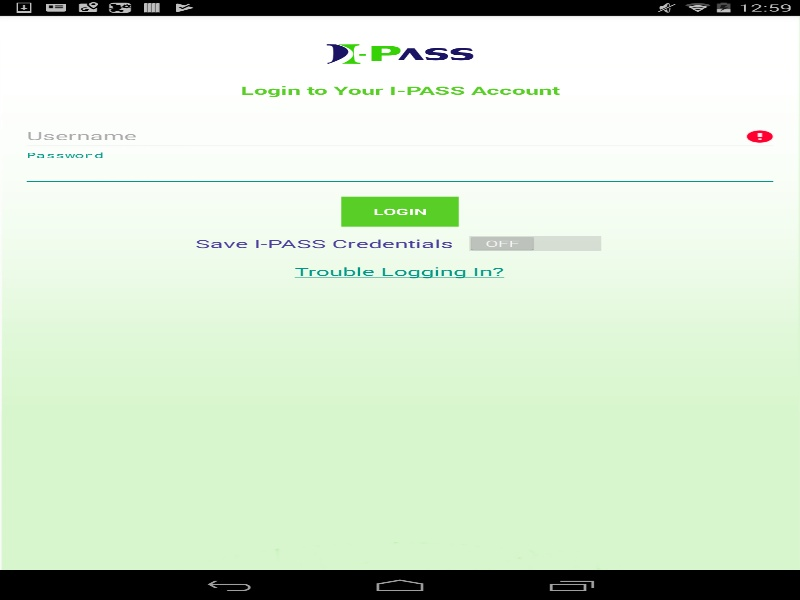Button: (341, 196, 458, 226)
Input: (21, 122, 778, 151), (21, 158, 778, 186)
